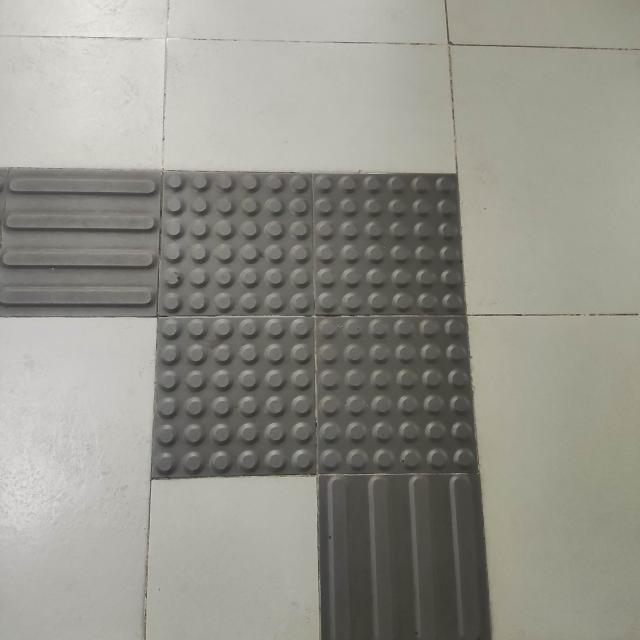kiri: (0, 112, 561, 554)
